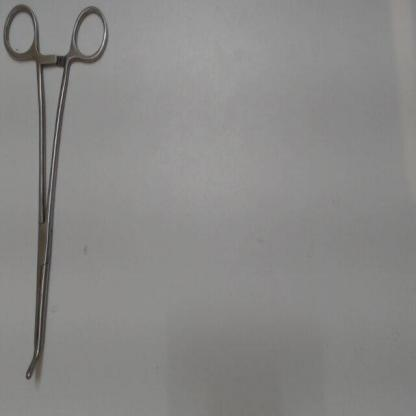Lahey Forceps: (2, 2, 112, 387)
